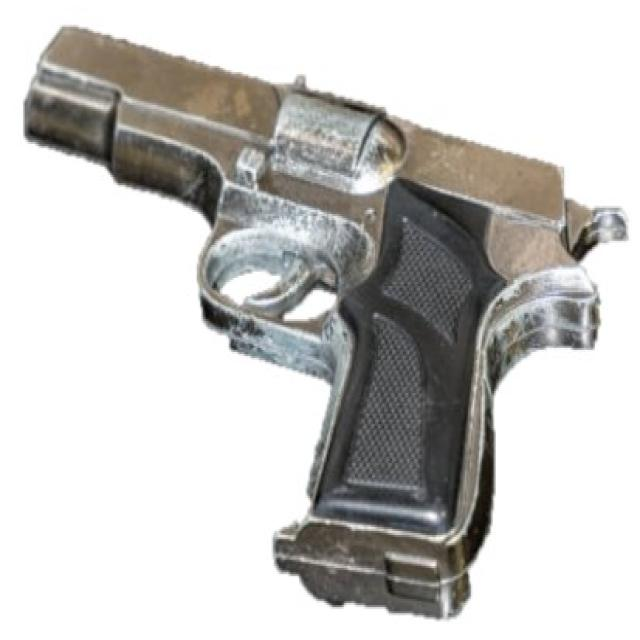pistol: (15, 12, 632, 633)
